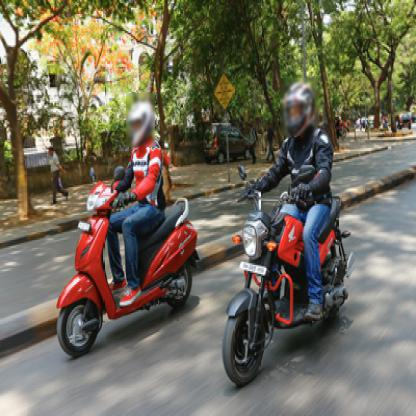Helmet: (280, 75, 317, 139), (125, 98, 158, 149)
